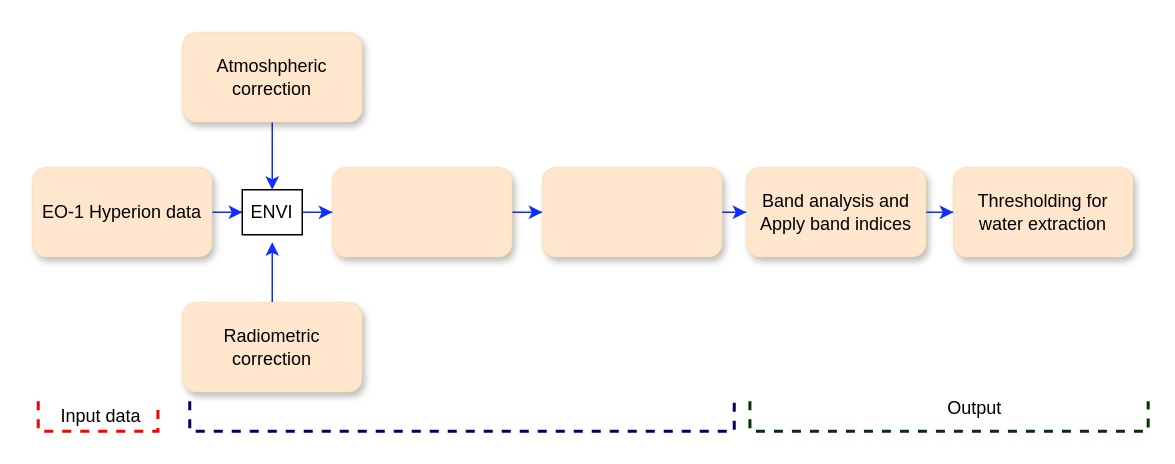
This 1175x464 diagram has some shape labels left out. The shapes that lost their labels are listed below. From the top down, each one's centre as x and y in pixels, then its label:
At (x=423, y=213): "Bad band removal".
At (x=633, y=213): "Stripping Error correction".
At (x=461, y=415): "Preprocessing and data cleaning".
